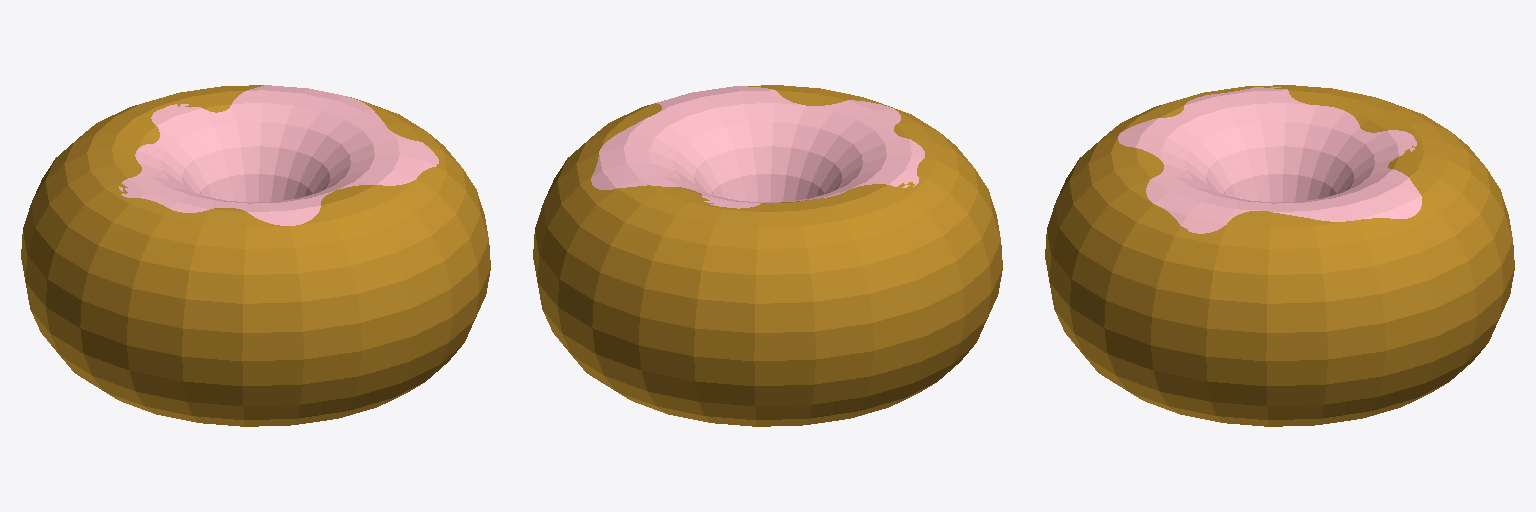
Rendered from donut5.obj.
3 renders of one model, left to right at view 1: azimuth 30°, elevation 25°; view 2: azimuth 150°, elevation 25°; view 3: azimuth 270°, elevation 25°, orthographic.
Visible parts, largest first — view 1: Mesh1 Model; view 2: Mesh1 Model; view 3: Mesh1 Model.
Boxes of the visible parts, <box> form: Mesh1 Model: <box>21,85,490,426</box>; Mesh1 Model: <box>533,85,1002,426</box>; Mesh1 Model: <box>1045,85,1514,426</box>.
Size of the model in its own units: 53.22 by 26.23 by 53.22.